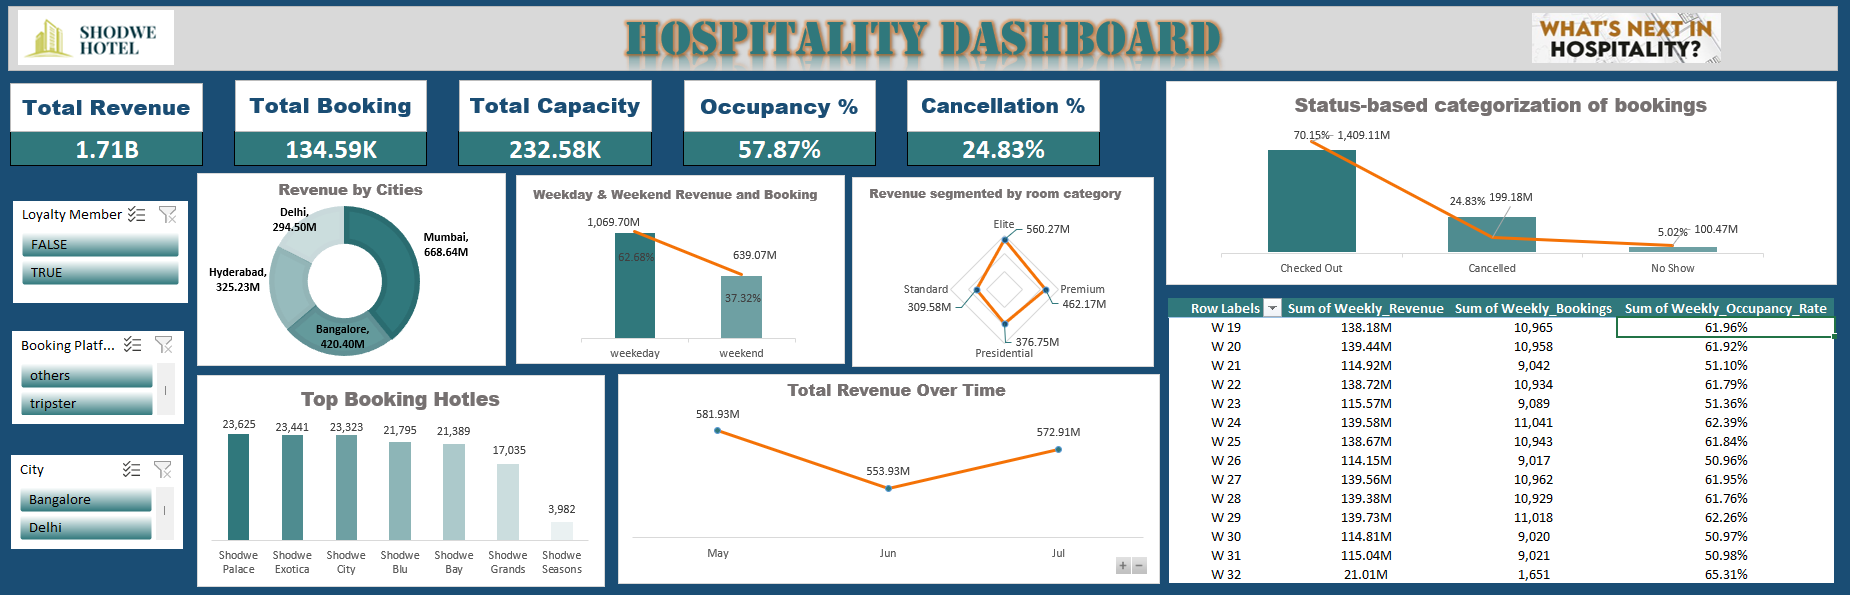

This screenshot's page, from the dashboard's own definition file:
{"tool":"tableau","page":{"name":"Dashboard 1","canvas":[1000,1000],"units":"permille","ordinal":0},"visuals":[{"type":"title","box":[5,10.7,990,84.5]},{"type":"image","box":[5,95.2,990,894.1]},{"type":"worksheet","title":"Revenue","mark":"Text","box":[112.8,96.5,134.7,124.7]},{"type":"worksheet","title":"capacity","mark":"Text","box":[372.4,96.5,131.2,123.3]},{"type":"worksheet","title":"Booking","mark":"Text","box":[249.1,97.9,123,123.3]},{"type":"worksheet","title":"Avg Rating","mark":"Text","box":[503.5,97.9,141.8,122]},{"type":"worksheet","title":"occupancy%","mark":"Automatic","box":[646,100.5,161.5,122]},{"type":"worksheet","title":"cancellation%","mark":"Text","box":[808.2,100.5,166.4,119.3]},{"type":"image","param":"Image/Picture1.png","box":[8.8,101.9,102.5,112.6]},{"type":"filter","title":"Booking_status","param":"[federated.0kp501o1j3tpmw1h6ecsv15nl3r8].[none:booking_status:nk]","box":[8.8,217.2,96.2,111.3]},{"type":"worksheet","title":"Booking_status","mark":"Pie","box":[105.4,219.8,220.2,288.2]},{"type":"worksheet","title":"Revenue by day_type","mark":"Bar","rows":["revenue_generated","booking_id"],"cols":["day_type"],"box":[762.9,219.8,224.6,288.2]},{"type":"worksheet","title":"Revenue by city","mark":"Automatic","rows":["revenue_realized"],"cols":["city"],"box":[326.9,221.2,219.6,286.9]},{"type":"worksheet","title":"Revenue by class","mark":"Automatic","rows":["room_class"],"cols":["revenue_realized"],"box":[547.7,222.5,214.6,285.5]},{"type":"filter","title":"Revenue by bookingplatform","param":"[federated.0kp501o1j3tpmw1h6ecsv15nl3r8].[none:booking_platform:nk]","box":[7.5,327.1,98.8,85.8]},{"type":"filter","title":"Revenue by city","param":"[federated.0kp501o1j3tpmw1h6ecsv15nl3r8].[none:city:nk]","box":[8.1,415.6,98.1,166.2]},{"type":"worksheet","title":"Revenue by bookingplatform","mark":"Circle","box":[779.8,505.4,210.3,473.2]},{"type":"worksheet","title":"weekly trend","mark":"Automatic","rows":["week no"],"box":[106.7,506.7,326.9,473.2]},{"type":"worksheet","title":"weekly Revenue","mark":"Line","rows":["revenue_generated","revenue_generated"],"cols":["week no"],"box":[433,510.7,345.5,465.2]},{"type":"filter","title":"Revenue by class","param":"[federated.0kp501o1j3tpmw1h6ecsv15nl3r8].[none:room_class:nk]","box":[7.5,580.4,96.9,234.6]},{"type":"filter","title":"Revenue by day_type","param":"[federated.0kp501o1j3tpmw1h6ecsv15nl3r8].[none:day_type:nk]","box":[8.1,816.4,95.6,162.2]}]}

Visuals, with their boxes on the dashboard's canvas, which has no fixed pixel size, in thousandths of its width and height (x1, y1, x2, y2). These are canvas units, not pixel positions in the 1850x595 screenshot, which may show the page scaled, cropped or inside an application window:
title: l=5, t=11, r=995, b=95
image: l=5, t=95, r=995, b=989
"Revenue" worksheet (Text marks): l=113, t=96, r=248, b=221
"capacity" worksheet (Text marks): l=372, t=96, r=504, b=220
"Booking" worksheet (Text marks): l=249, t=98, r=372, b=221
"Avg Rating" worksheet (Text marks): l=504, t=98, r=645, b=220
"occupancy%" worksheet: l=646, t=100, r=808, b=222
"cancellation%" worksheet (Text marks): l=808, t=100, r=975, b=220
image: l=9, t=102, r=111, b=214
"Booking_status" filter: l=9, t=217, r=105, b=328
"Booking_status" worksheet (Pie marks): l=105, t=220, r=326, b=508
"Revenue by day_type" worksheet (Bar marks): l=763, t=220, r=988, b=508
"Revenue by city" worksheet: l=327, t=221, r=546, b=508
"Revenue by class" worksheet: l=548, t=222, r=762, b=508
"Revenue by bookingplatform" filter: l=8, t=327, r=106, b=413
"Revenue by city" filter: l=8, t=416, r=106, b=582
"Revenue by bookingplatform" worksheet (Circle marks): l=780, t=505, r=990, b=979
"weekly trend" worksheet: l=107, t=507, r=434, b=980
"weekly Revenue" worksheet (Line marks): l=433, t=511, r=778, b=976
"Revenue by class" filter: l=8, t=580, r=104, b=815
"Revenue by day_type" filter: l=8, t=816, r=104, b=979
